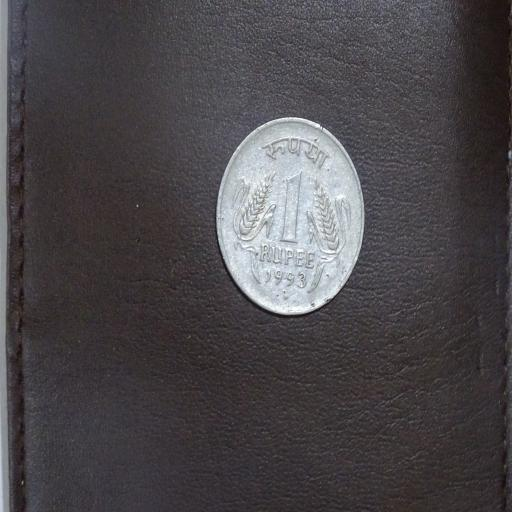rupee1: (215, 118, 366, 317)
